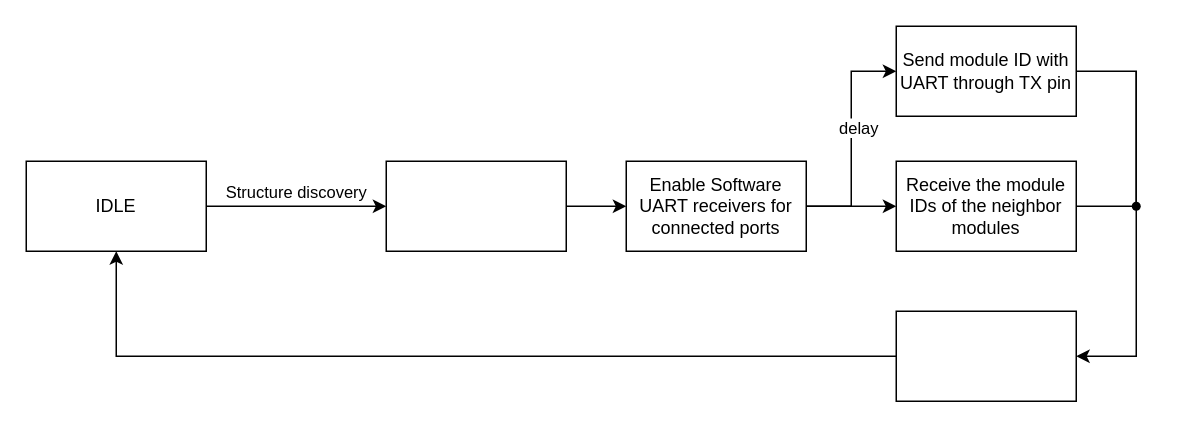
Image size: 1178x428. Some labels were removed from this diagram. Each missing label, with the centre of its shape:
"Check which ports are connected" belongs at pixel 475 205.
"Send neighbors ID list and module attributes" belongs at pixel 985 355.
